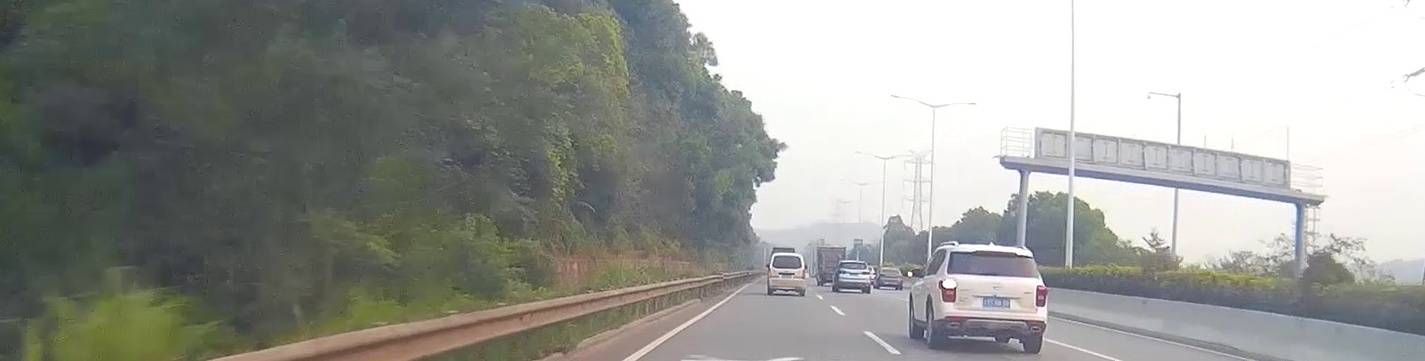L_light: (939, 279, 956, 302), (768, 268, 772, 277), (838, 270, 846, 274)
R_light: (1036, 285, 1048, 307), (802, 269, 805, 279), (863, 271, 869, 274)
T_light: (975, 249, 1017, 255), (783, 255, 790, 257), (851, 262, 857, 264)
day-left: (938, 244, 1048, 353)
day-no: (768, 252, 806, 296), (834, 260, 870, 293)
